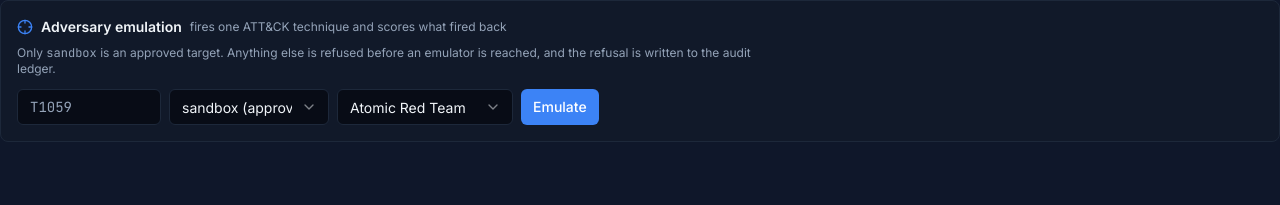
Scenario: EmulationPanel › sends the technique, target and emulator, and renders the verdict
Type "t1059" into the field with test id "emulation-technique" at (89, 107), box [17,89,161,125]
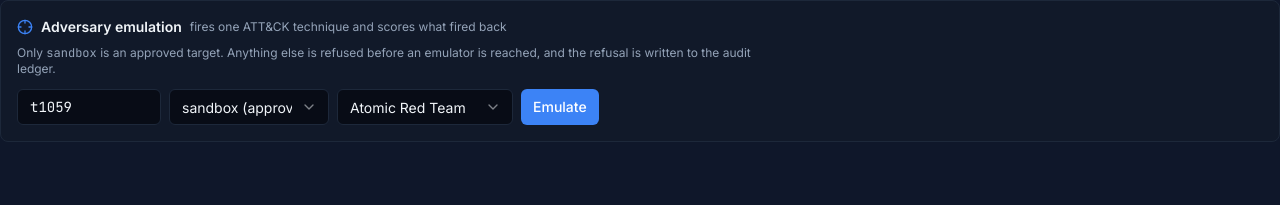
Select "MITRE Caldera" in the dropdown with test id "emulation-emulator" at (425, 107), box [337,89,513,125]
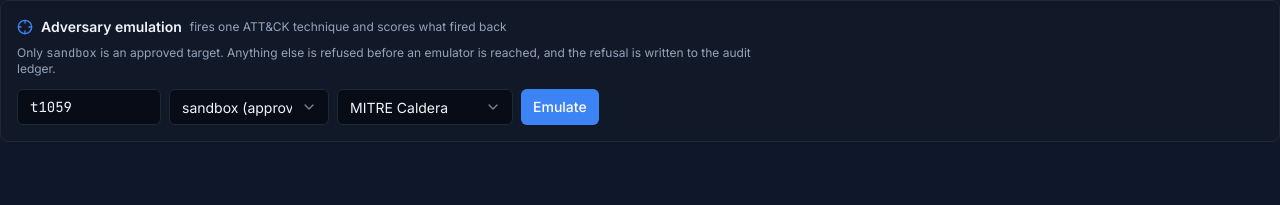
Click the button with test id "emulation-run" at (560, 107), box [521,89,599,125]
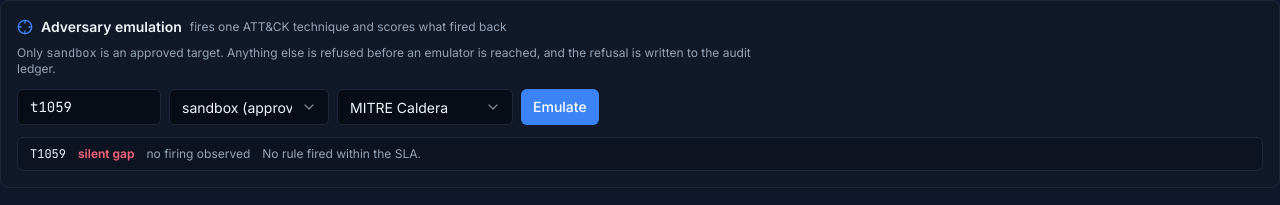
Expected: the list item with test id "emulation-verdict-T1059" shows "silent gap", [78,146,134,161]
Expected: the list item with test id "emulation-verdict-T1059" shows "no firing observed", [146,146,250,161]
